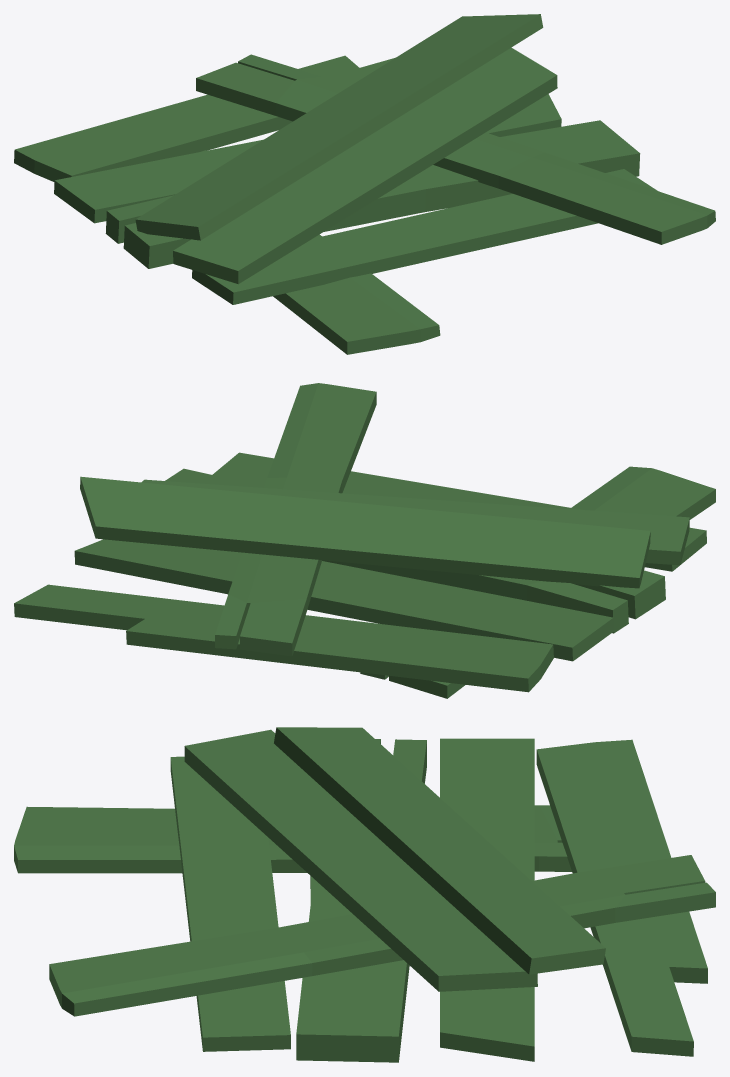
The model's file is Furniture_Board_Pile_01_Lod0.fbx.
3 views of the same model, one above another, from view 1: azimuth 30°, elevation 25°; view 2: azimuth 150°, elevation 25°; view 3: azimuth 270°, elevation 25° (orthographic). The views are drawn at different scales.
Visible parts, largest first — view 1: Furniture_Board_Pile_01_Lod0; view 2: Furniture_Board_Pile_01_Lod0; view 3: Furniture_Board_Pile_01_Lod0.
Part boxes in pixels (bbox=[...]): Furniture_Board_Pile_01_Lod0: bbox=[14, 14, 715, 354]; Furniture_Board_Pile_01_Lod0: bbox=[14, 383, 715, 698]; Furniture_Board_Pile_01_Lod0: bbox=[14, 727, 715, 1062].
Bounding box in the file's own units: 79.83 × 13.71 × 84.56.
